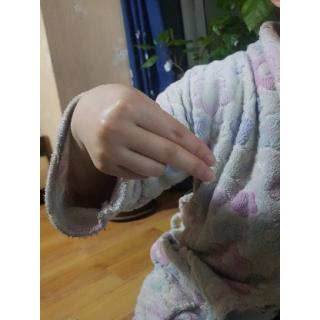AYN: (72, 79, 222, 187)
